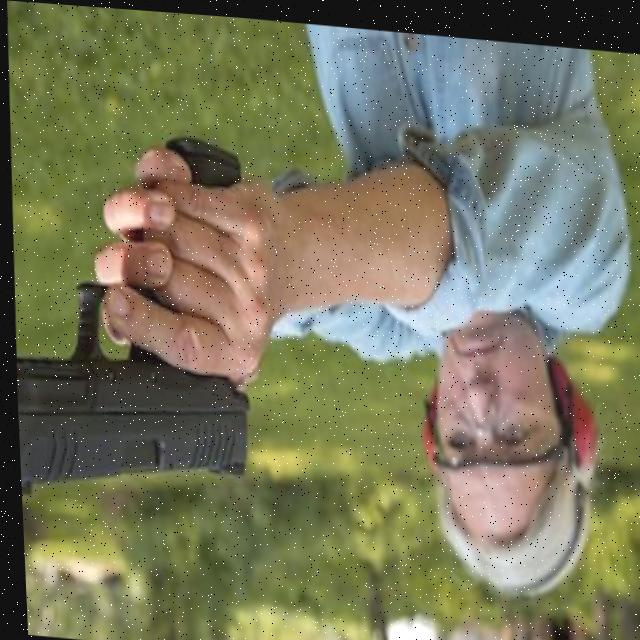pistol: (9, 270, 255, 516)
